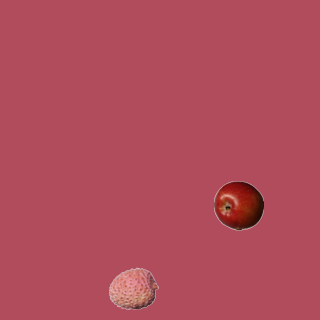Apple Braeburn: (213, 180, 263, 230)
Lychee: (108, 263, 158, 313)
